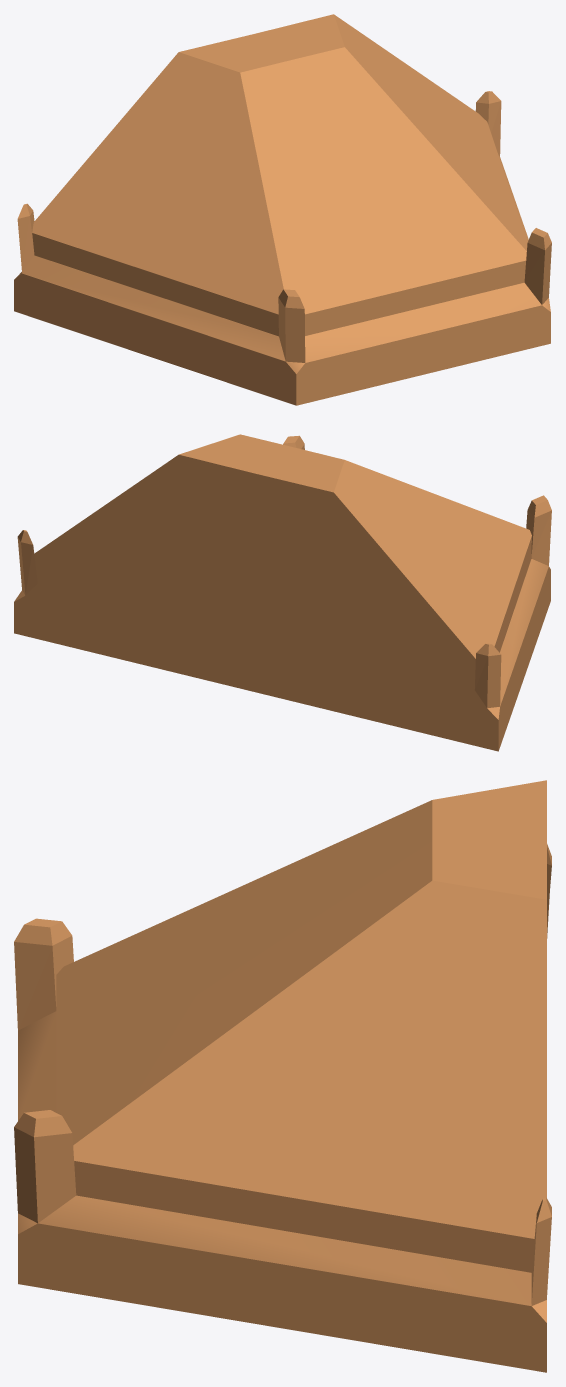
The model's file is WindowTowerRoof.fbx.
3 views of the same model, one above another, from view 1: azimuth 30°, elevation 25°; view 2: azimuth 150°, elevation 25°; view 3: azimuth 270°, elevation 25° (orthographic). The views are drawn at different scales.
Visible parts, largest first — view 1: WindowTowerRoof; view 2: WindowTowerRoof; view 3: WindowTowerRoof.
Boxes of the visible parts, x1=… form: WindowTowerRoof: x1=14, y1=14, x2=551, y2=405; WindowTowerRoof: x1=14, y1=434, x2=551, y2=751; WindowTowerRoof: x1=14, y1=780, x2=551, y2=1372.
Size of the model in its own units: 2.64 by 1.61 by 1.14.
